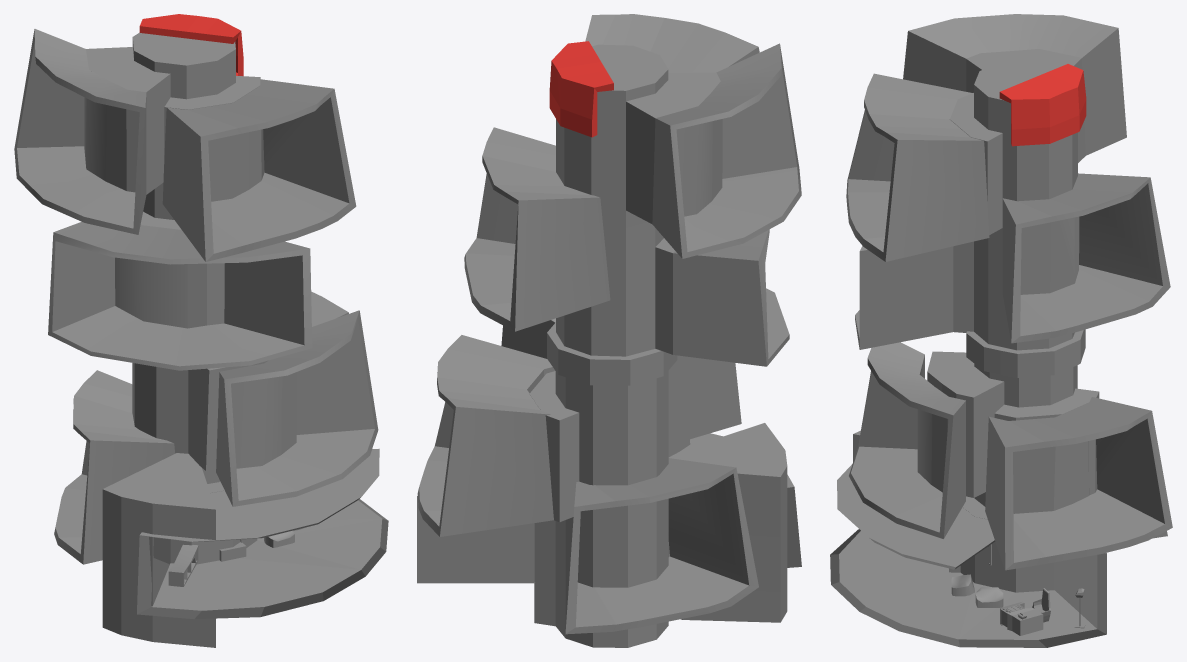
Rendered from 2-doors.FBX.
The picture shows the model from 3 angles, left to right: view 1: azimuth 30°, elevation 25°; view 2: azimuth 150°, elevation 25°; view 3: azimuth 270°, elevation 25°; orthographic projection. The views are drawn at different scales.
Visible parts, largest first — view 1: Group009, Group012, Cylinder011, z004, Cylinder010, Group027, Group026, z005; view 2: Group009, Cylinder011, Group012, Cylinder010, z005, z004, Group027, Group011; view 3: Group009, Cylinder011, z005, z004, Cylinder010, Group012, Group027, Group011, Group026, Desk003.
Part boxes in pixels (x1,y1,x2,y2): Group009: [14, 29, 312, 370]; Group012: [54, 310, 378, 647]; Cylinder011: [132, 360, 388, 619]; z004: [162, 79, 356, 261]; Cylinder010: [86, 32, 260, 229]; Group027: [139, 14, 243, 76]; Group026: [168, 527, 305, 586]; z005: [311, 291, 348, 326]; Group009: [464, 43, 801, 366]; Cylinder011: [417, 355, 801, 647]; Group012: [501, 318, 787, 634]; Cylinder010: [556, 44, 720, 356]; z005: [417, 335, 555, 536]; z004: [585, 14, 759, 72]; Group027: [549, 41, 613, 137]; Group011: [547, 322, 677, 385]; Group009: [855, 14, 1170, 349]; Cylinder011: [830, 351, 1106, 647]; z005: [985, 397, 1172, 570]; z004: [846, 73, 989, 261]; Cylinder010: [950, 49, 1085, 350]; Group012: [849, 342, 1167, 538]; Group027: [999, 64, 1086, 146]; Group011: [966, 329, 1085, 377]; Group026: [949, 566, 1085, 628]; Desk003: [1000, 601, 1043, 635].
Bounding box in the file's own units: 40.93 × 63.51 × 37.45.
